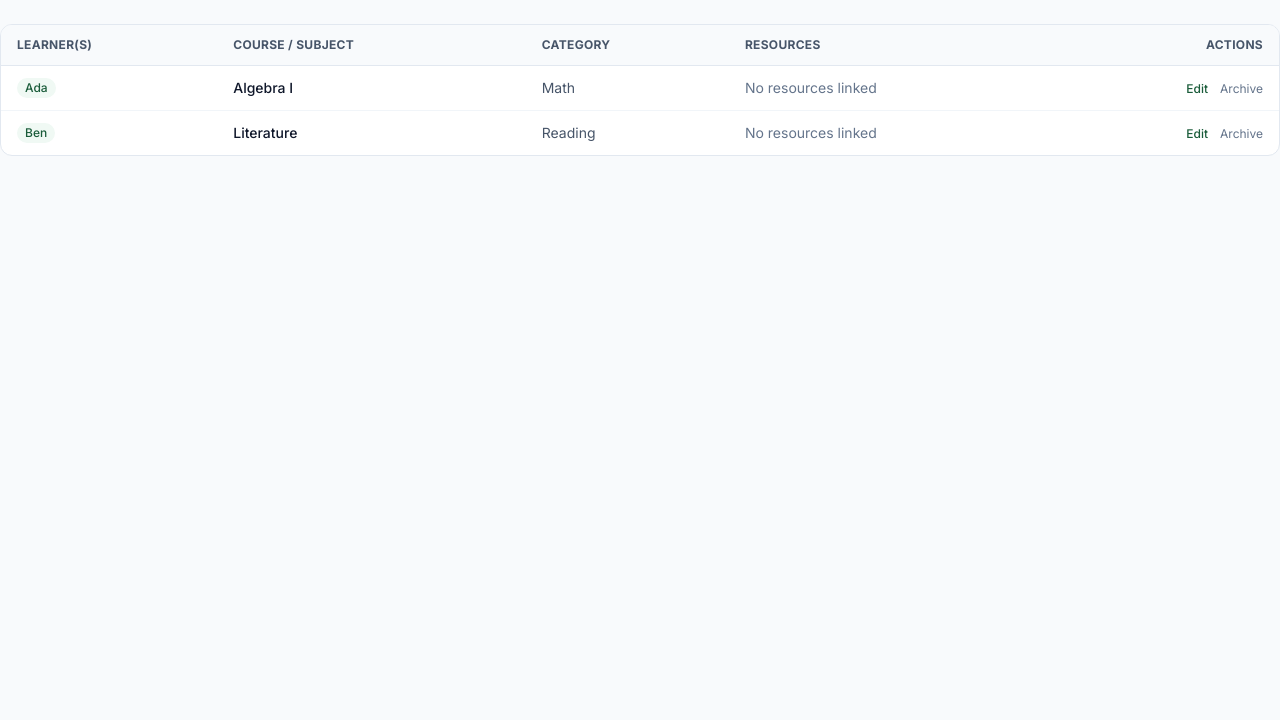
Test: SubjectsAllTable › opens edit dialog when Edit is clicked
Expected: the element with test id "subjects-all-table" is shown, [0,24,1279,156]
Click the button "Edit" in the row of "Ada" at (1197, 89), box [1186,81,1208,97]
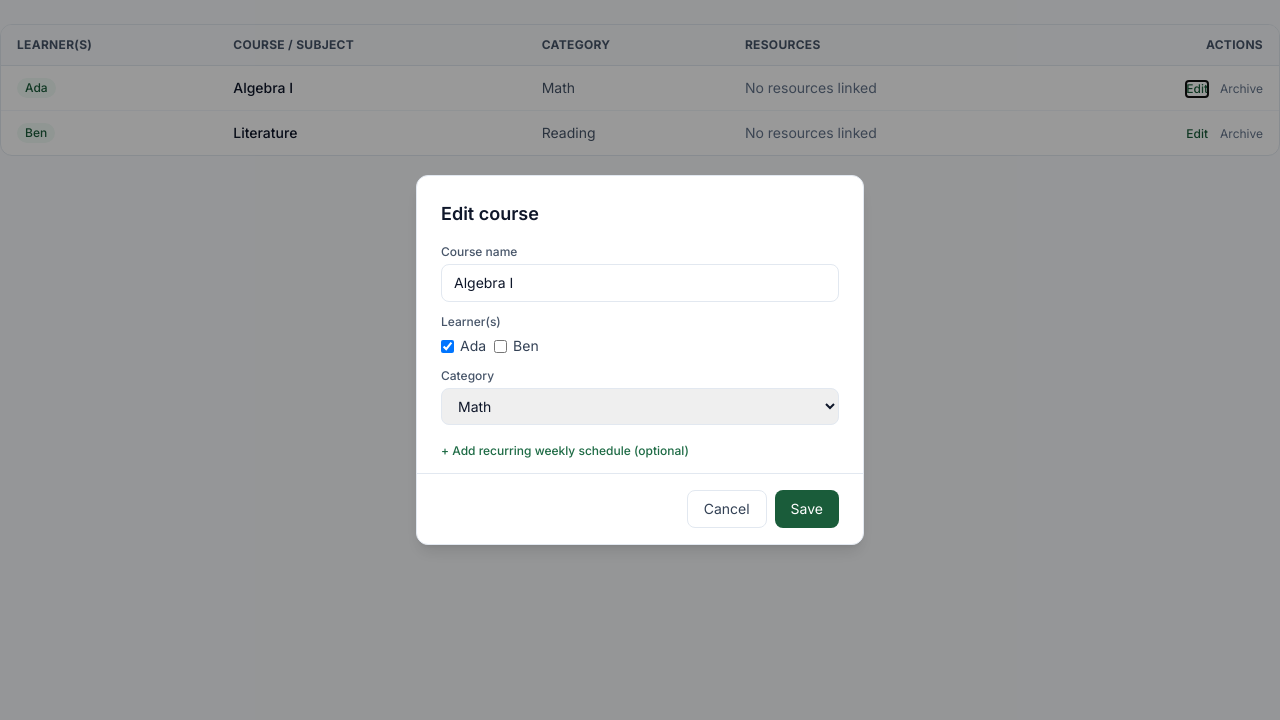
Expected: the dialog "Edit course" is shown, [416,175,864,545]
Expected: the form with test id "subject-edit-form" is shown, [417,244,863,544]
